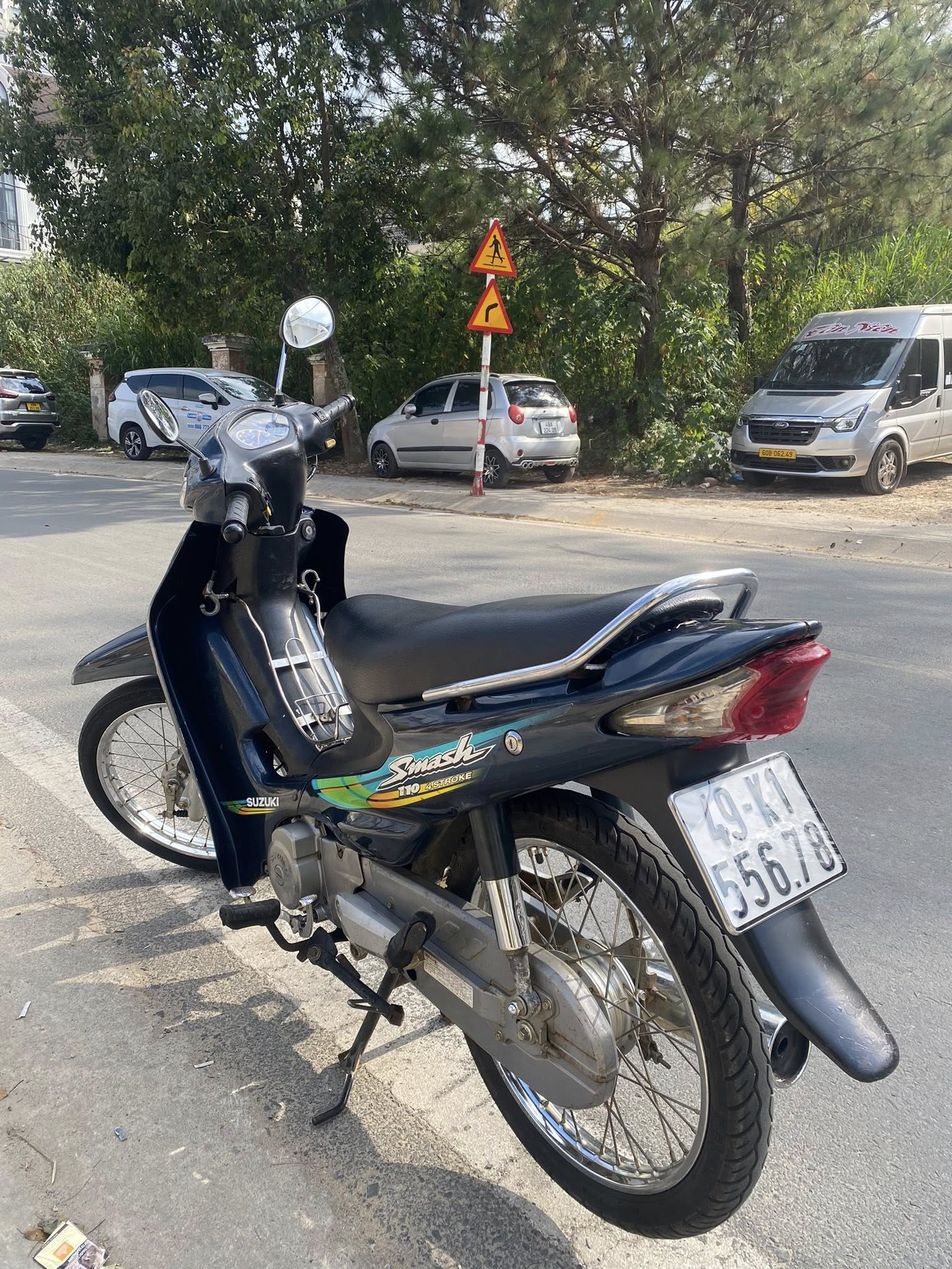bien_so: (651, 743, 858, 938)
